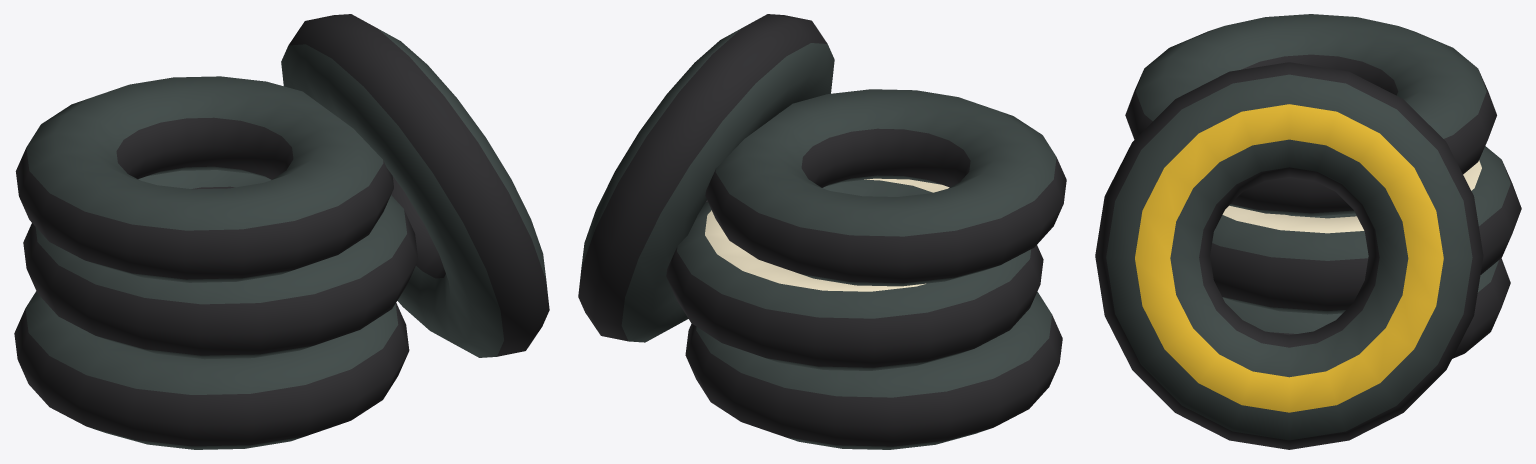
File: prop_tires_stack.glb
3 renders of one model, left to right at view 1: azimuth 30°, elevation 25°; view 2: azimuth 150°, elevation 25°; view 3: azimuth 270°, elevation 25°, orthographic. The views are drawn at different scales.
Visible parts, largest first — view 1: prop_tires_stack; view 2: prop_tires_stack; view 3: prop_tires_stack.
Part boxes in pixels (x1,y1,x2,y2): prop_tires_stack: (14, 14, 549, 449); prop_tires_stack: (578, 14, 1066, 449); prop_tires_stack: (1095, 14, 1521, 449).
Size of the model in its own units: 0.9329 by 0.659 by 0.78.
